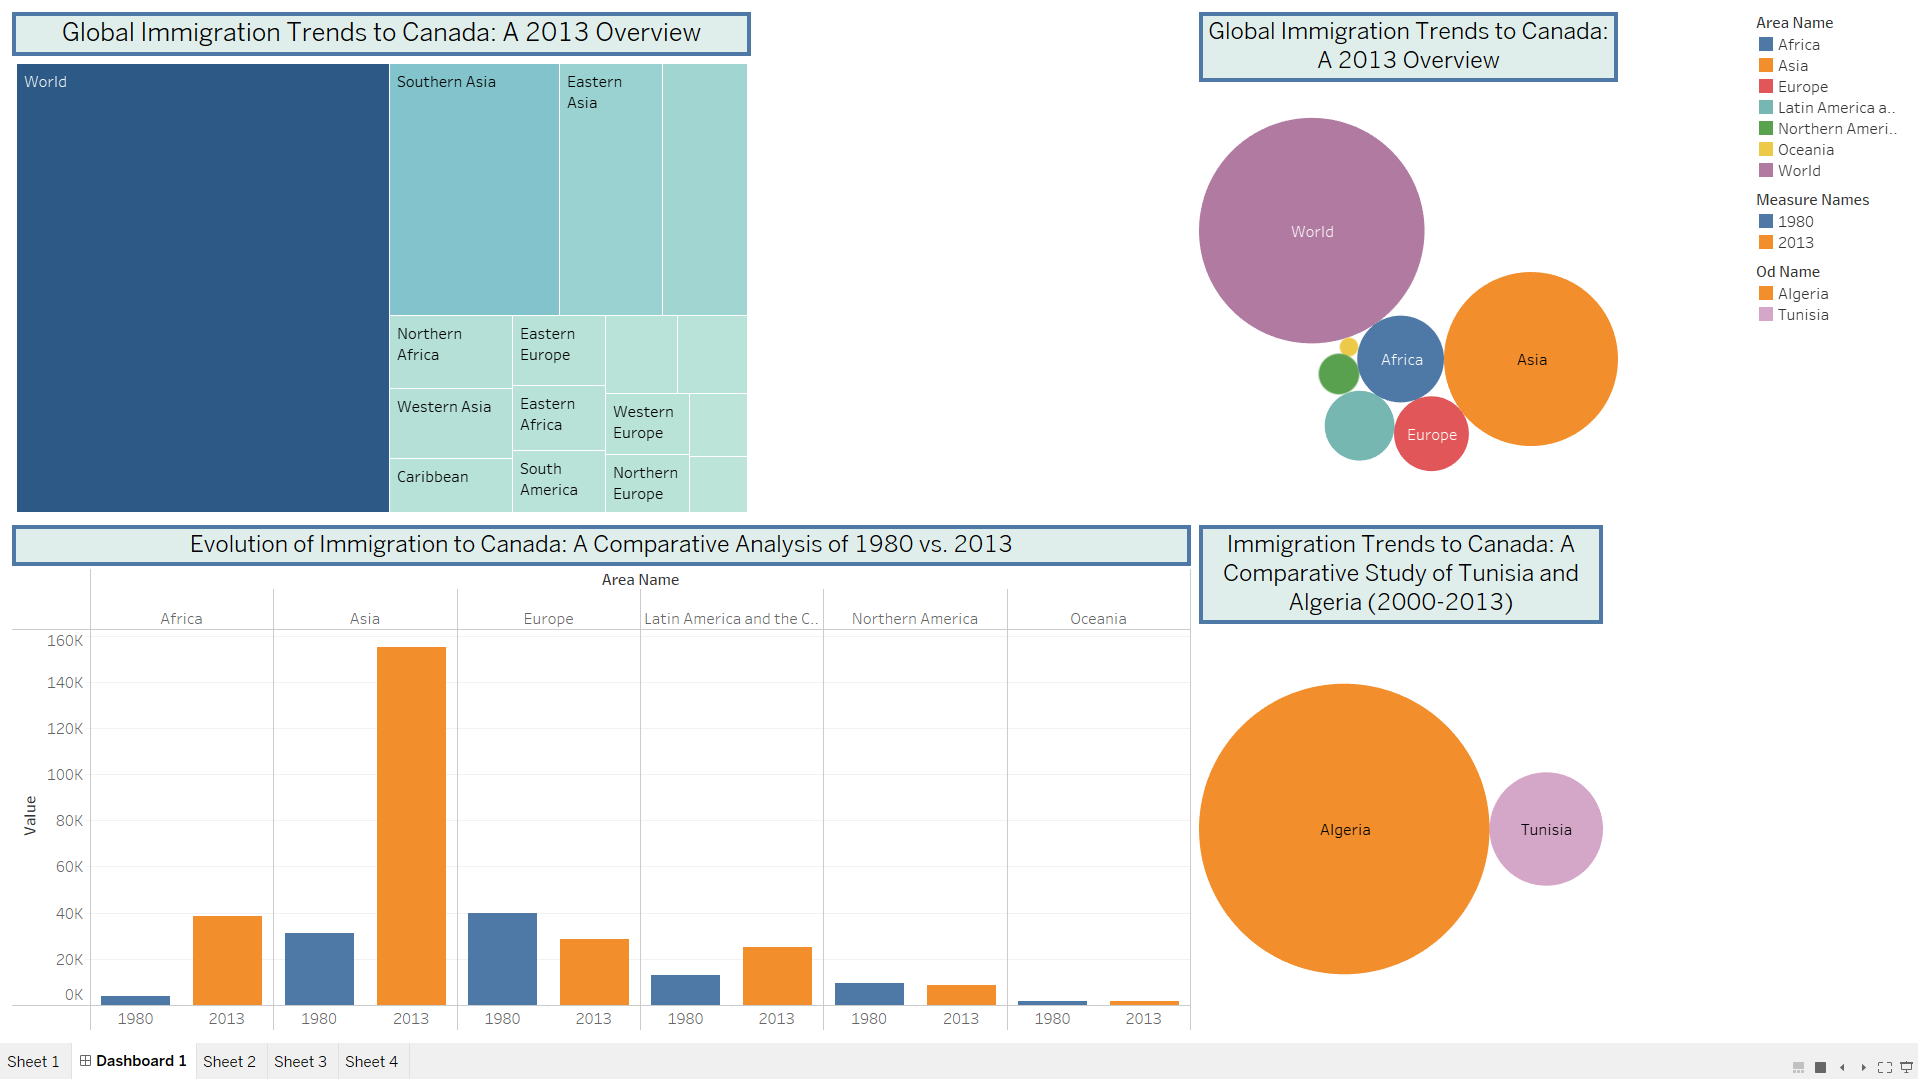

The dashboard page shown, as its layout file describes it:
{"tool":"tableau","page":{"name":"Dashboard 1","canvas":[1000,1000],"units":"permille","ordinal":0},"visuals":[{"type":"worksheet","title":"Sheet 1","mark":"Automatic","box":[4.8,9.4,608.4,490.5]},{"type":"worksheet","title":"Sheet 2","mark":"Circle","box":[613.2,9.4,285.4,490.6]},{"type":"legend","title":"Sheet 2","param":"[federated.1bnm22u1tdzrb41b0xg3906x9c44].[none:AreaName:nk]","box":[898.6,9.4,96.6,208]},{"type":"legend","title":"Sheet 3","param":"[federated.1bnm22u1tdzrb41b0xg3906x9c44].[:Measure Names]","box":[898.6,217.4,96.6,84.6]},{"type":"legend","title":"Sheet 4","param":"[federated.1bnm22u1tdzrb41b0xg3906x9c44].[none:OdName:nk]","box":[898.6,302,96.6,84.6]},{"type":"worksheet","title":"Sheet 3","mark":"Automatic","cols":["AreaName"],"box":[4.8,499.9,608.4,490.7]},{"type":"worksheet","title":"Sheet 4","mark":"Circle","box":[613.2,500,285.4,490.6]}]}

Visuals, with their boxes on the dashboard's canvas, which has no fixed pixel size, in thousandths of its width and height (x1, y1, x2, y2). These are canvas units, not pixel positions in the 1918x1079 screenshot, which may show the page scaled, cropped or inside an application window:
"Sheet 1" worksheet: box(5, 9, 613, 500)
"Sheet 2" worksheet (Circle marks): box(613, 9, 899, 500)
"Sheet 2" legend: box(899, 9, 995, 217)
"Sheet 3" legend: box(899, 217, 995, 302)
"Sheet 4" legend: box(899, 302, 995, 387)
"Sheet 3" worksheet: box(5, 500, 613, 991)
"Sheet 4" worksheet (Circle marks): box(613, 500, 899, 991)
